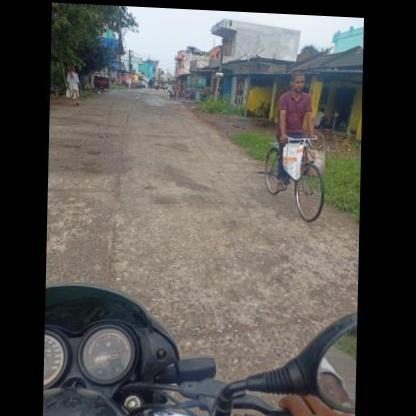Bicycle: (258, 128, 331, 228)
